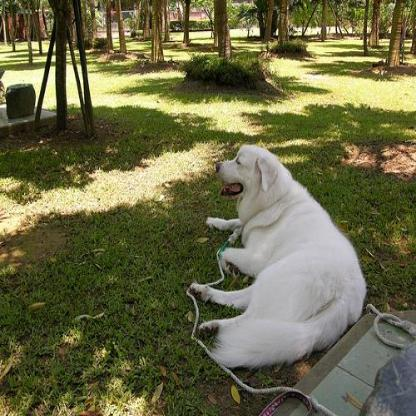Great_Pyrenees: (186, 141, 366, 368)
